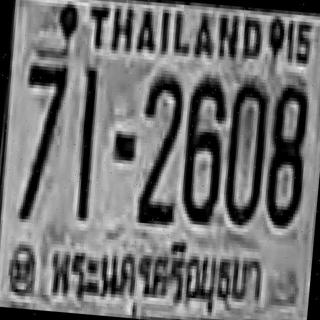N00: (222, 77, 269, 223)
N01: (72, 65, 100, 219), (72, 65, 100, 216)
N02: (135, 71, 185, 224), (135, 69, 184, 209)
N06: (179, 73, 227, 223)
N07: (15, 60, 66, 220), (17, 60, 66, 200), (20, 60, 66, 169)
N08: (263, 80, 308, 227)
P03: (46, 232, 267, 320)
